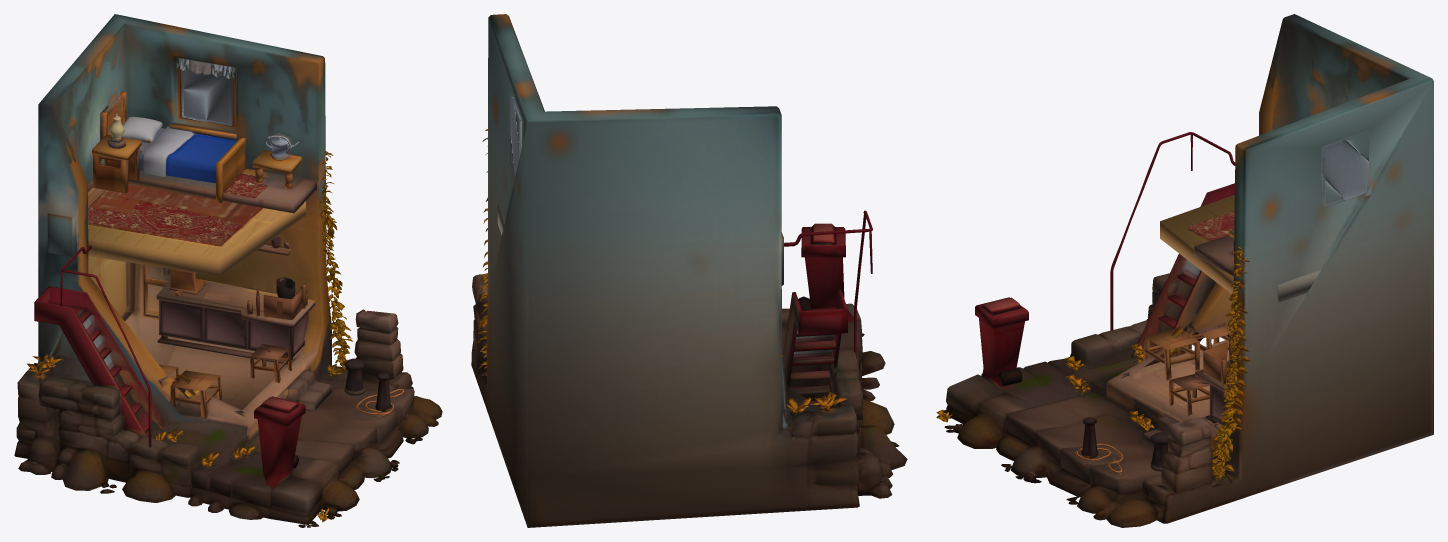
File: tier1-lv3.glb
The picture shows the model from 3 angles, left to right: view 1: azimuth 30°, elevation 25°; view 2: azimuth 150°, elevation 25°; view 3: azimuth 270°, elevation 25°; orthographic projection. The views are drawn at different scales.
Parts seen in each view (by area): view 1: tripo_node_244bf3de-8d88-4a42-b827-8dd16835d205; view 2: tripo_node_244bf3de-8d88-4a42-b827-8dd16835d205; view 3: tripo_node_244bf3de-8d88-4a42-b827-8dd16835d205.
Boxes of the visible parts, x1,y1,x2,y2 form: tripo_node_244bf3de-8d88-4a42-b827-8dd16835d205: (14, 14, 442, 527); tripo_node_244bf3de-8d88-4a42-b827-8dd16835d205: (471, 14, 907, 527); tripo_node_244bf3de-8d88-4a42-b827-8dd16835d205: (936, 14, 1433, 527).
Size of the model in its own units: 1.18 by 0.998 by 1.27.
Materials: 1 (1 with a texture image).
